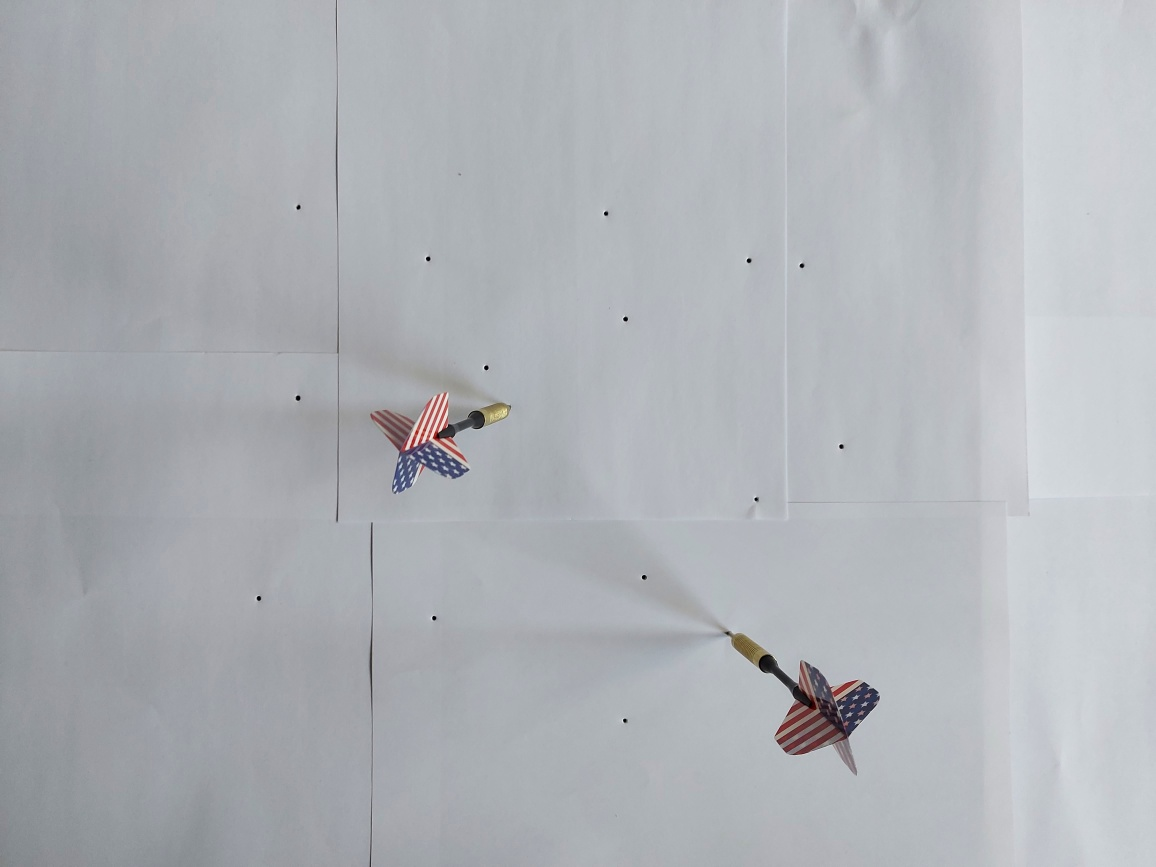Dart: (712, 612, 891, 785), (362, 374, 532, 500)
